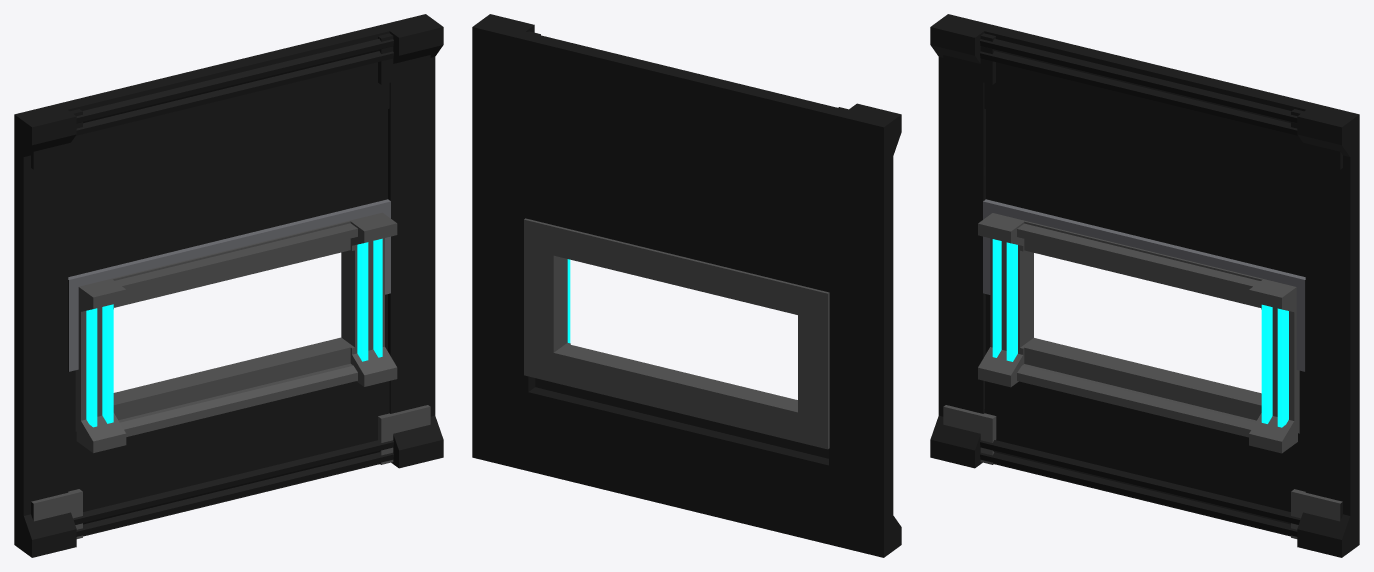
File: Wall_with_window.glb
3 views of the same model, side by side, from view 1: azimuth 30°, elevation 25°; view 2: azimuth 150°, elevation 25°; view 3: azimuth 330°, elevation 25° (orthographic).
Visible parts, largest first — view 1: decorative_half_wall_5.002; view 2: decorative_half_wall_5.002; view 3: decorative_half_wall_5.002.
Part boxes in pixels (x1=…): decorative_half_wall_5.002: x1=14, y1=14, x2=443, y2=557; decorative_half_wall_5.002: x1=472, y1=14, x2=901, y2=557; decorative_half_wall_5.002: x1=930, y1=14, x2=1359, y2=557.
Size of the model in its own units: 4 by 4 by 0.4402.
